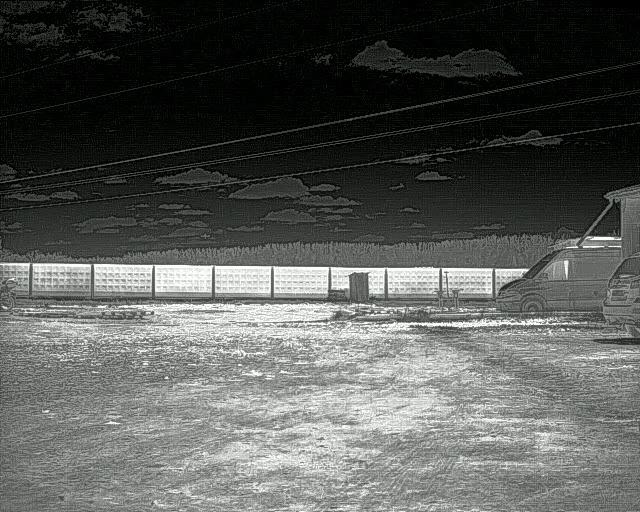drone-thermal: (200, 233, 211, 239)
